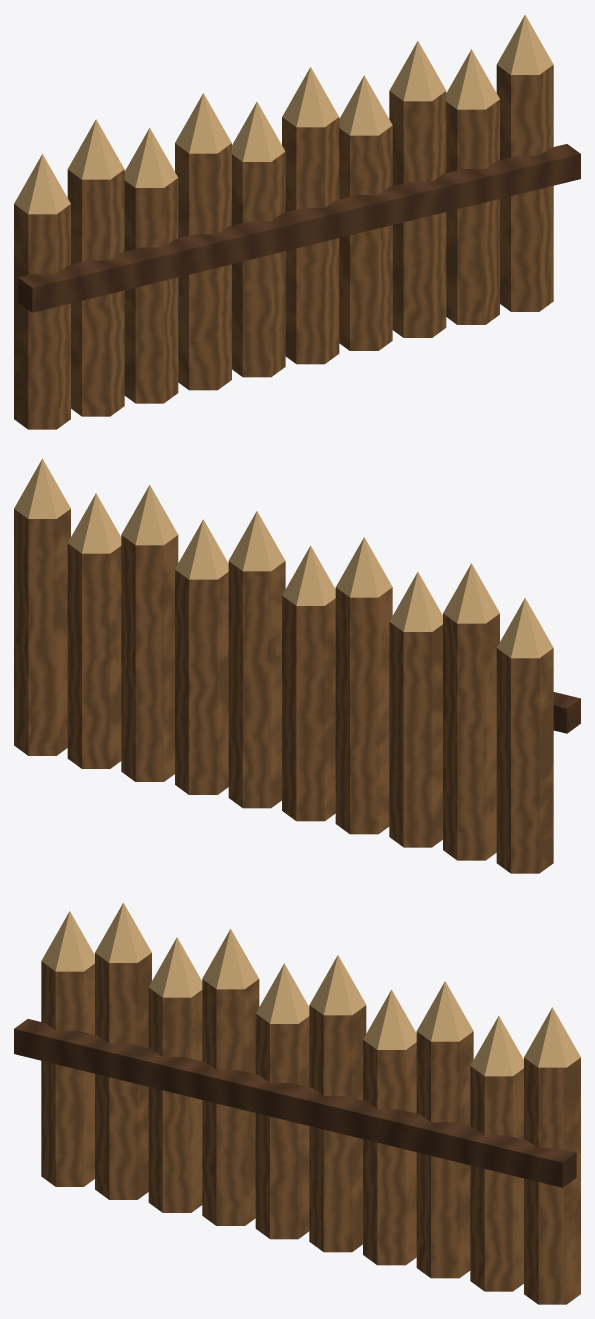
The model's file is fort_l2_edge.glb.
3 renders of one model, top to bottom at view 1: azimuth 30°, elevation 25°; view 2: azimuth 150°, elevation 25°; view 3: azimuth 330°, elevation 25°, orthographic.
Parts seen in each view (by area): view 1: fort_l2_edge; view 2: fort_l2_edge; view 3: fort_l2_edge.
Boxes of the visible parts, left/top/right/bottom form: fort_l2_edge: left=14, top=14, right=580, bottom=429; fort_l2_edge: left=14, top=458, right=580, bottom=873; fort_l2_edge: left=14, top=902, right=580, bottom=1304.
Bounding box in the file's own units: 0.8 × 0.4 × 0.0935.
Materials: 1 (1 with a texture image).
